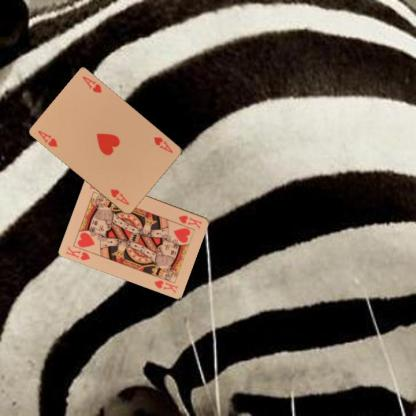Ah: (35, 128, 59, 148), (152, 134, 174, 154)
Kh: (63, 243, 92, 262), (176, 213, 204, 230)
